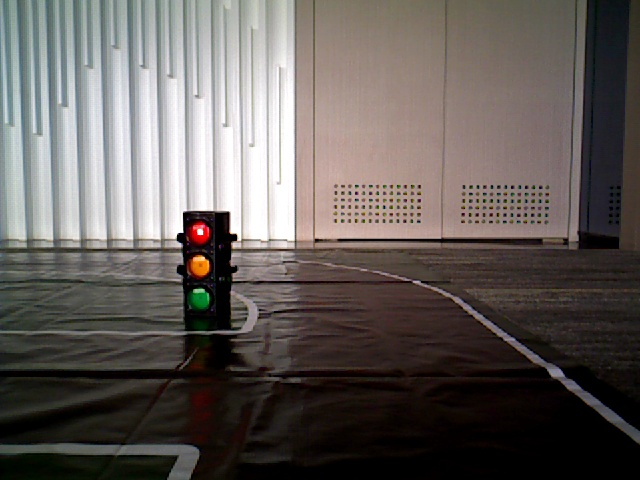red: (186, 216, 217, 319)
